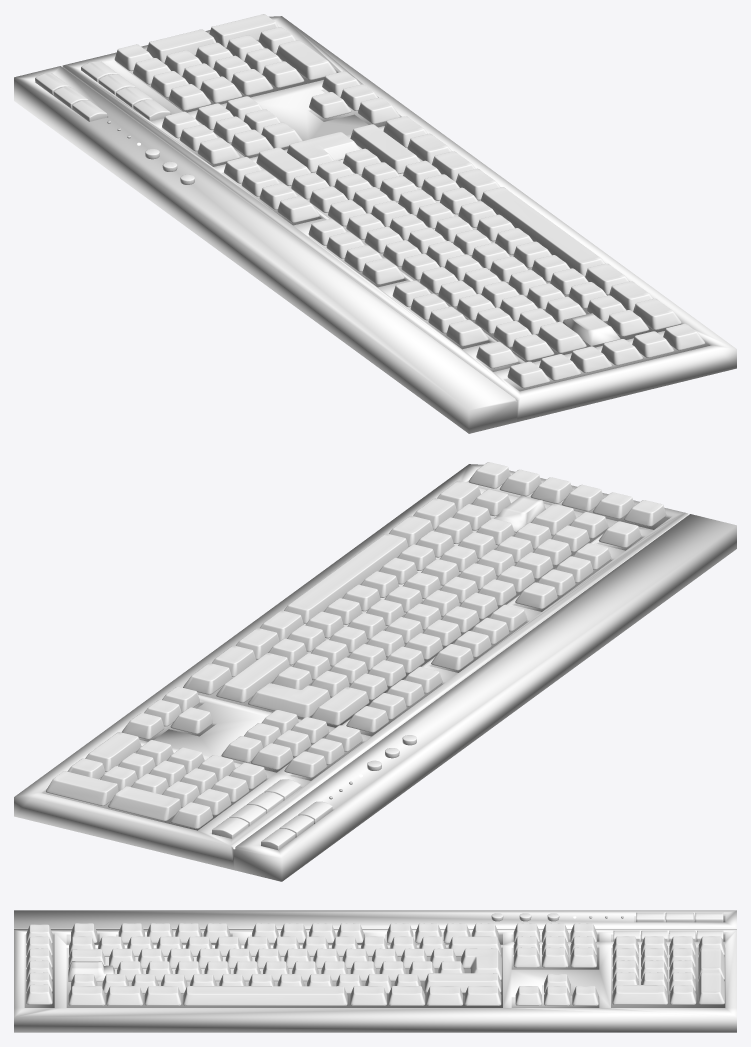
The model's file is keyboard.glb.
The picture shows the model from 3 angles, top to bottom: view 1: azimuth 30°, elevation 25°; view 2: azimuth 150°, elevation 25°; view 3: azimuth 270°, elevation 25°; orthographic projection. The views are drawn at different scales.
Visible parts, largest first — view 1: Keyboard; view 2: Keyboard; view 3: Keyboard.
Boxes of the visible parts, x1=… form: Keyboard: x1=14, y1=14, x2=736, y2=433; Keyboard: x1=14, y1=462, x2=736, y2=881; Keyboard: x1=14, y1=910, x2=736, y2=1032.
Size of the model in its own units: 0.1795 by 0.0236 by 0.528.
5 materials, 1 textured.
